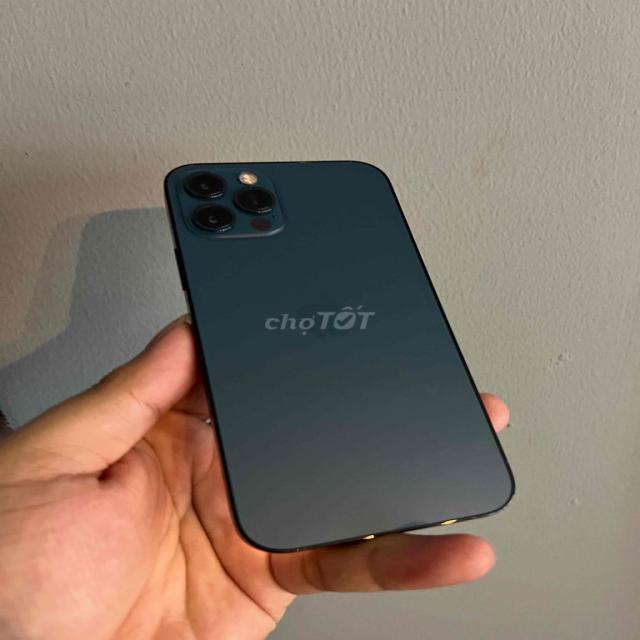gen_12_13: (160, 157, 520, 556)
